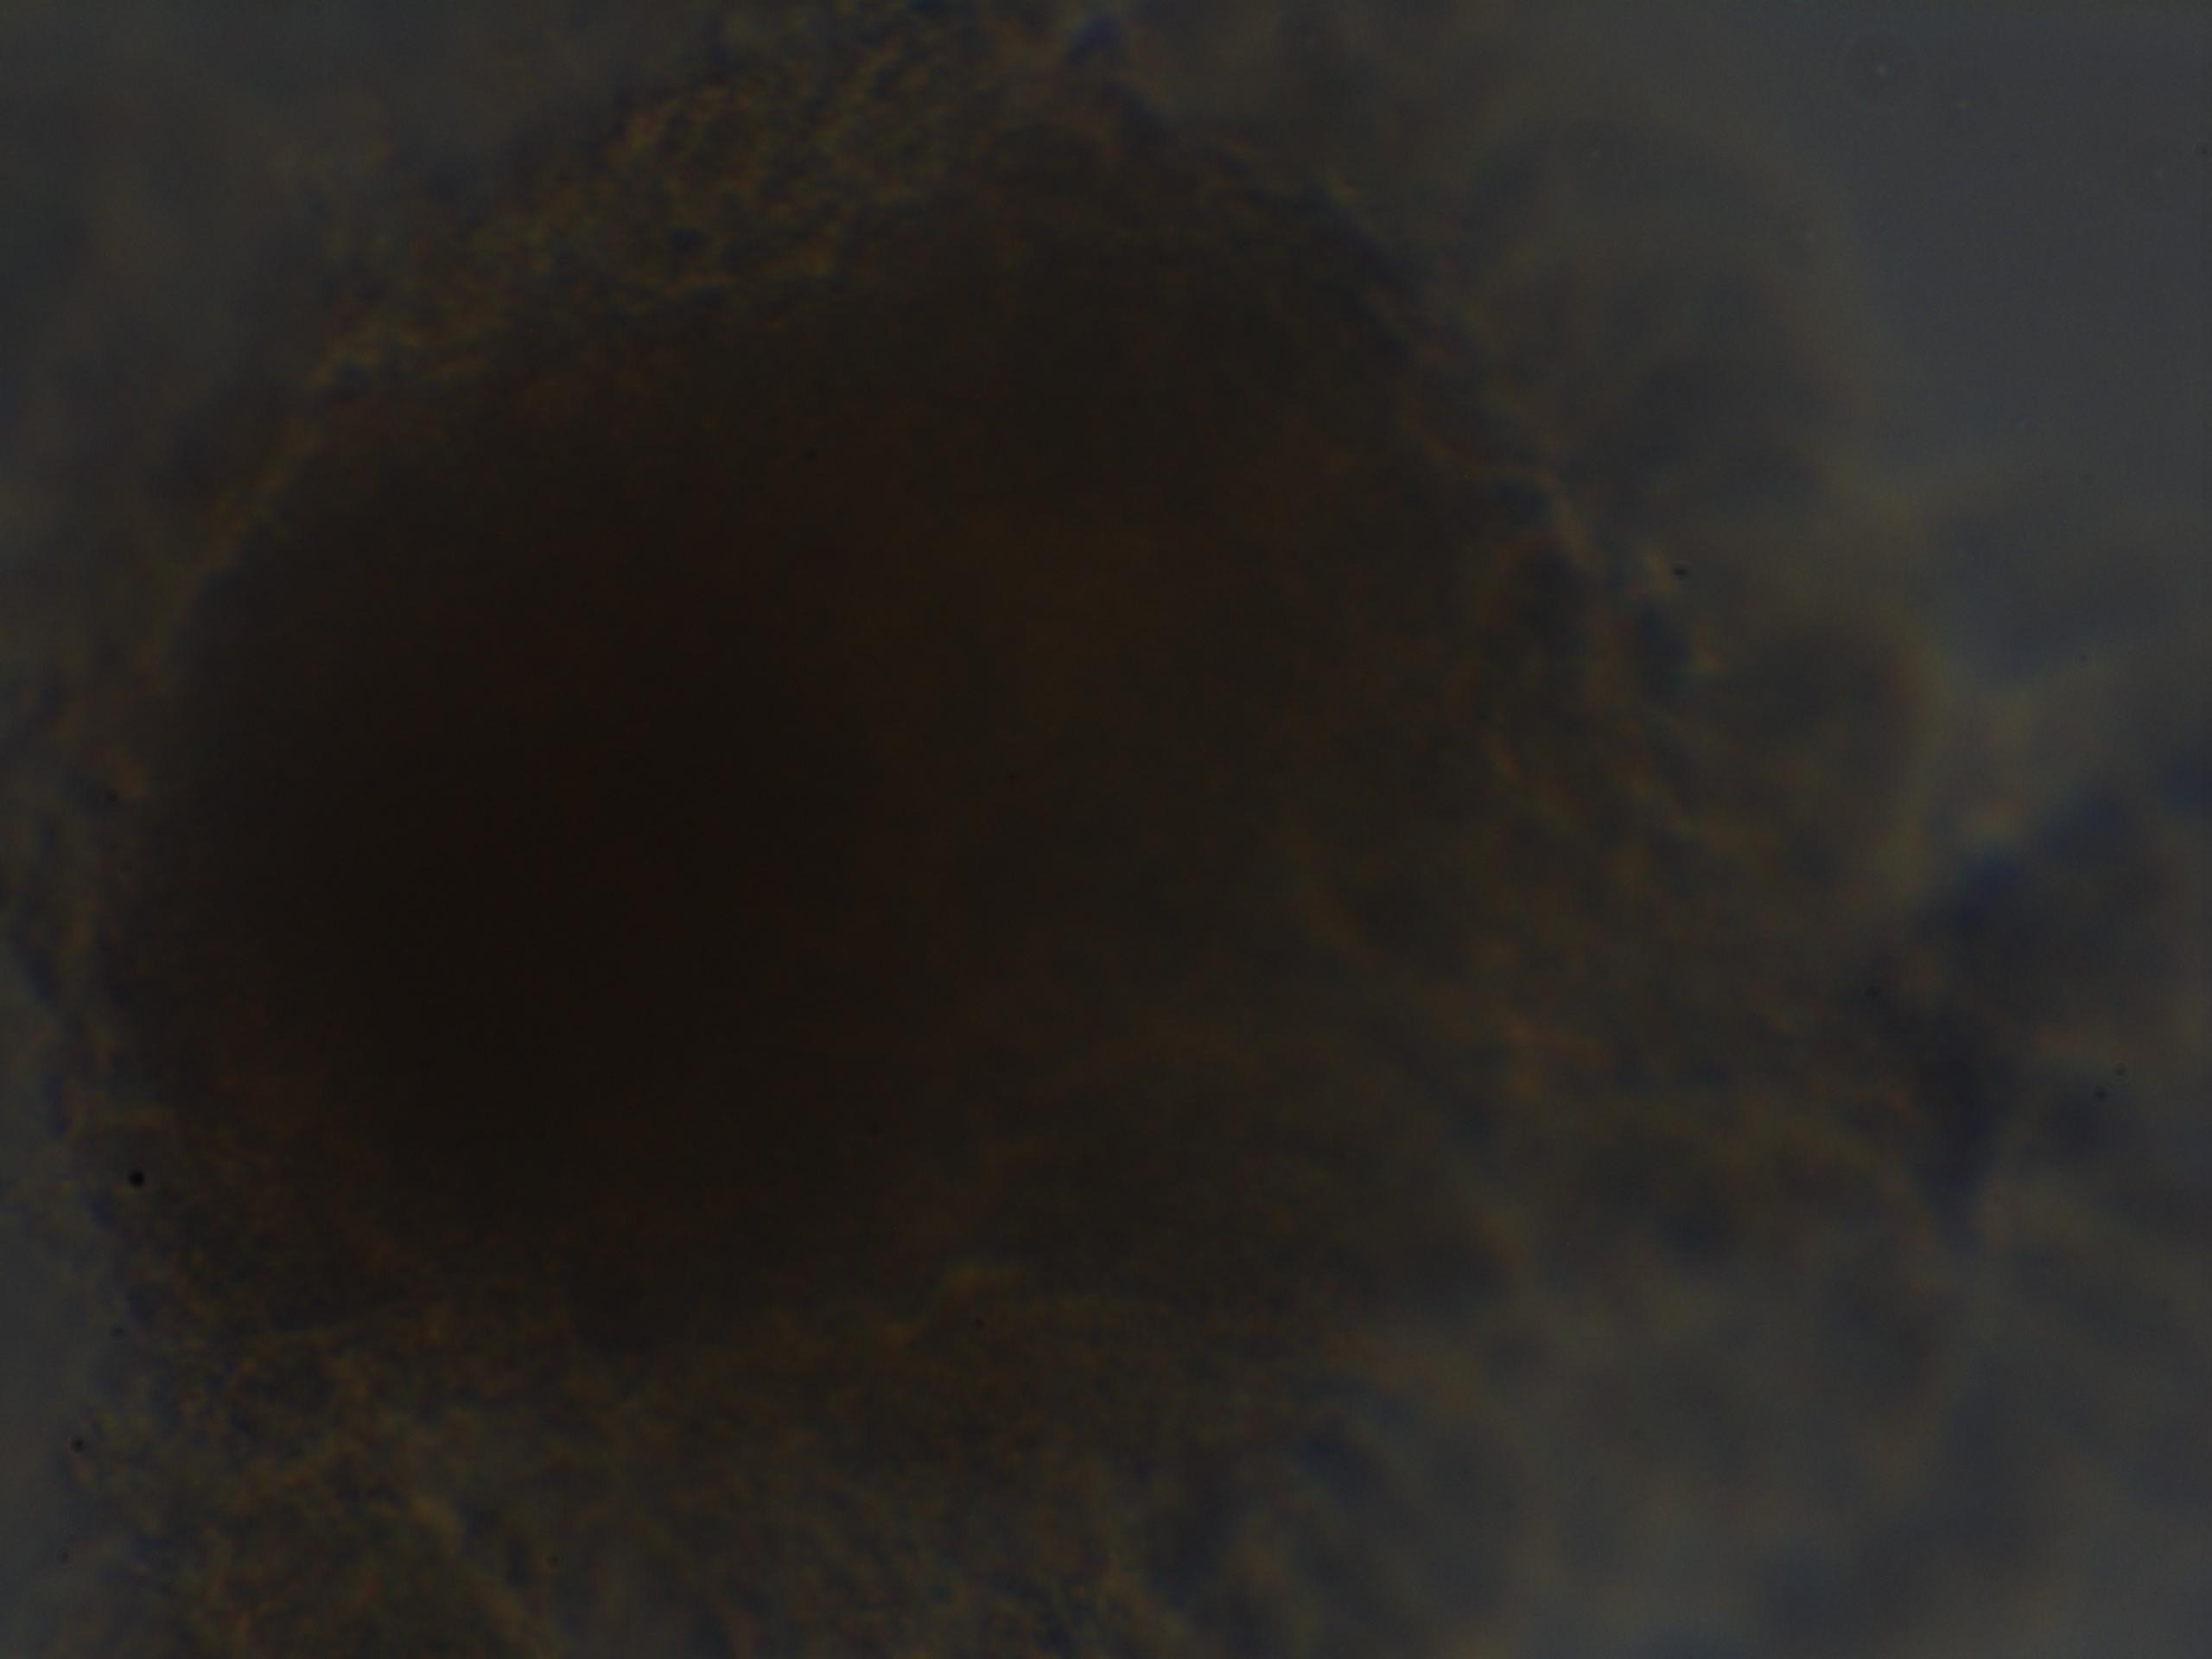spherical_floc: (7, 10, 1813, 1506)
